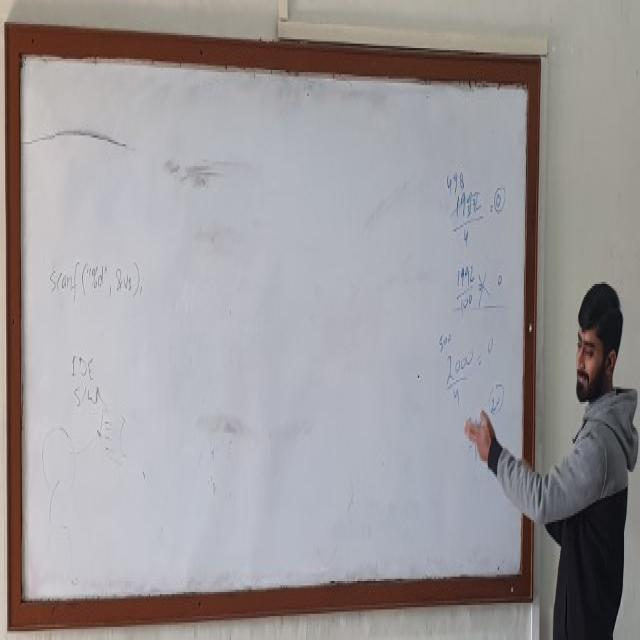Instructor: (540, 251, 634, 640)
White-board: (13, 36, 535, 617)
